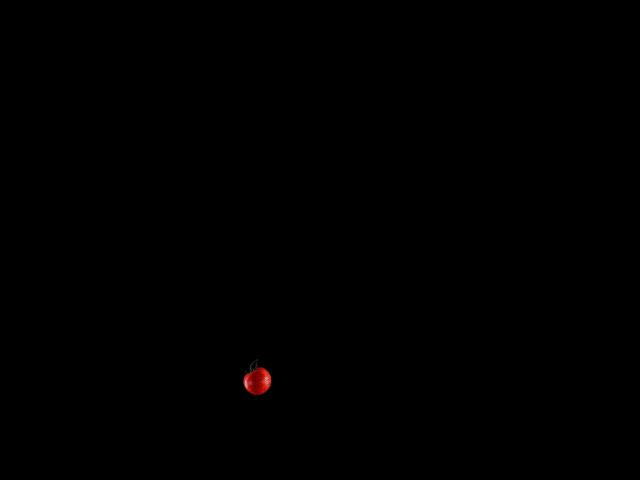tomato: (242, 365, 273, 396)
